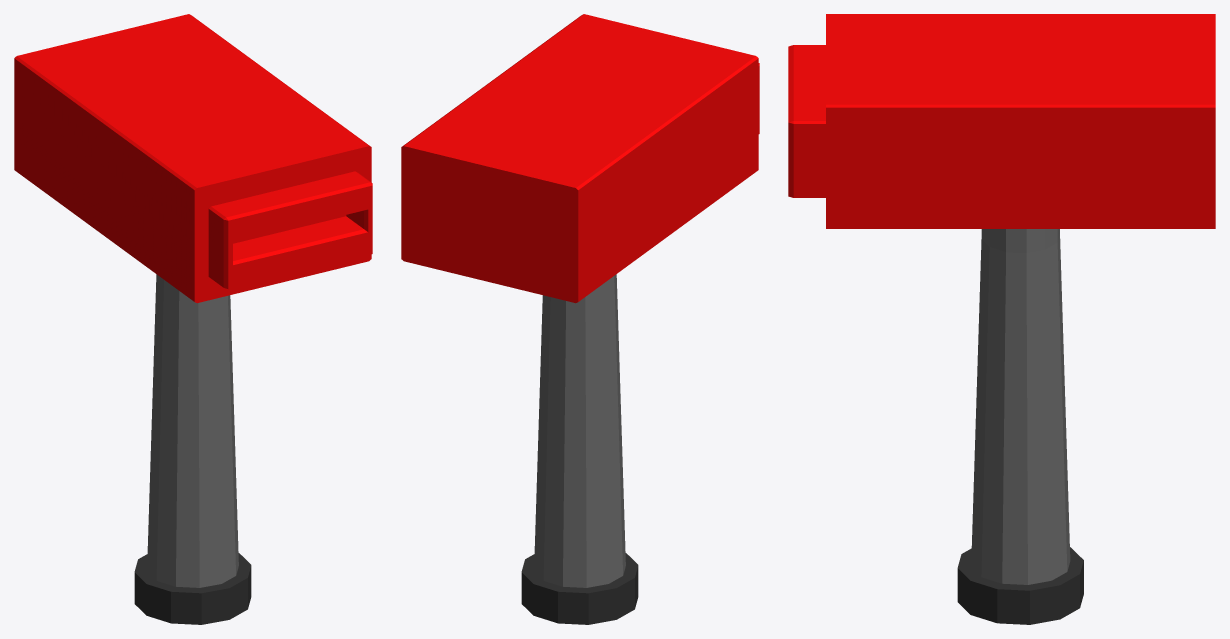
The model's file is Briefomat_Final.fbx.
The picture shows the model from 3 angles, left to right: view 1: azimuth 30°, elevation 25°; view 2: azimuth 150°, elevation 25°; view 3: azimuth 270°, elevation 25°; orthographic projection. The views are drawn at different scales.
Visible parts, largest first — view 1: Cylinder.018; view 2: Cylinder.018; view 3: Cylinder.018.
Part boxes in pixels (x1,y1,x2,y2): Cylinder.018: [14, 14, 372, 624]; Cylinder.018: [401, 14, 759, 624]; Cylinder.018: [788, 14, 1215, 624].
Bounding box in the file's own units: 54.06 × 146 × 105.
